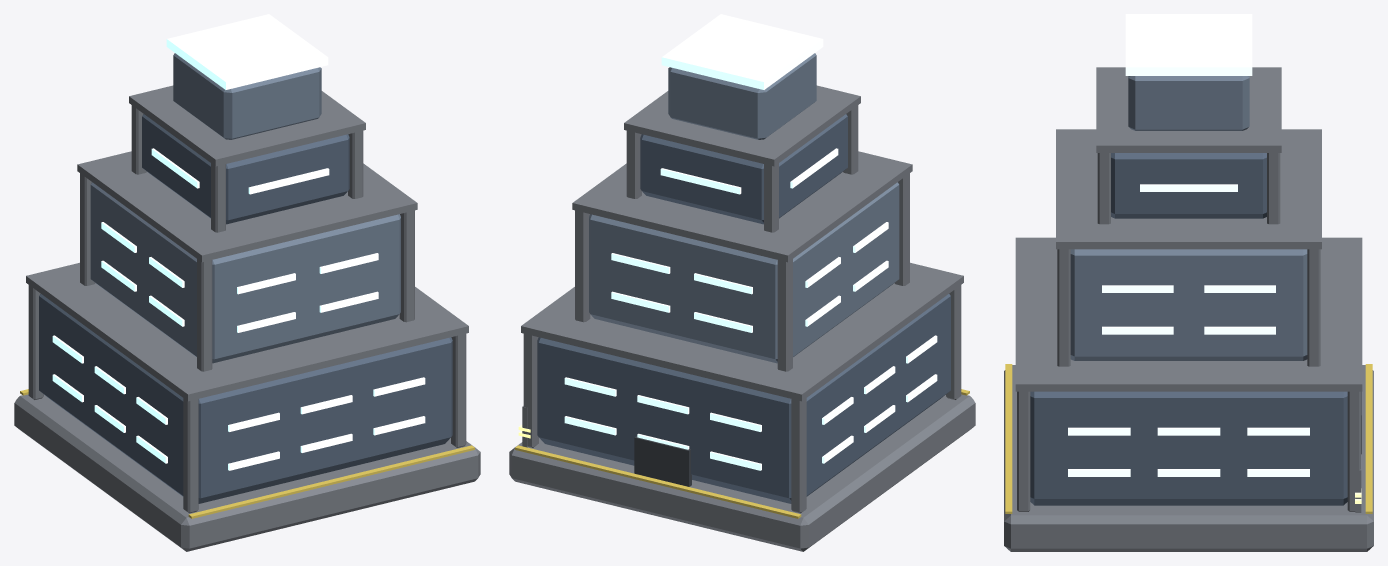
The model's file is zone_high_1_t2.glb.
3 renders of one model, left to right at view 1: azimuth 30°, elevation 25°; view 2: azimuth 150°, elevation 25°; view 3: azimuth 270°, elevation 25°, orthographic. The views are drawn at different scales.
Visible parts, largest first — view 1: zone_high_1_t2, detail; view 2: zone_high_1_t2, detail; view 3: zone_high_1_t2, detail.
Part boxes in pixels (left/top/right/bottom): zone_high_1_t2: left=14, top=14, right=480, bottom=551; detail: left=20, top=389, right=474, bottom=518; zone_high_1_t2: left=509, top=14, right=975, bottom=551; detail: left=515, top=389, right=969, bottom=518; zone_high_1_t2: left=1004, top=14, right=1373, bottom=551; detail: left=1005, top=364, right=1372, bottom=513.
Bounding box in the file's own units: 27.5 × 35.78 × 27.5.
